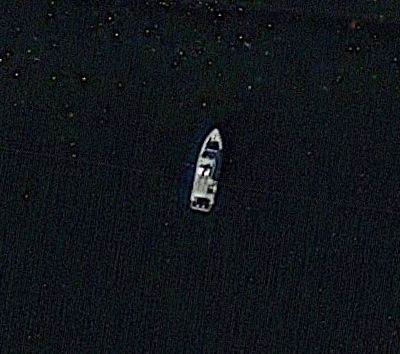boat: (189, 127, 228, 211)
